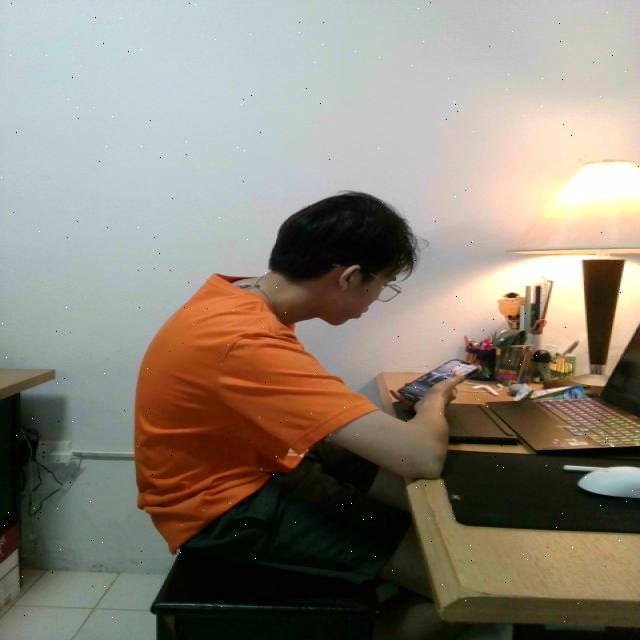Bad: (124, 187, 455, 594)
